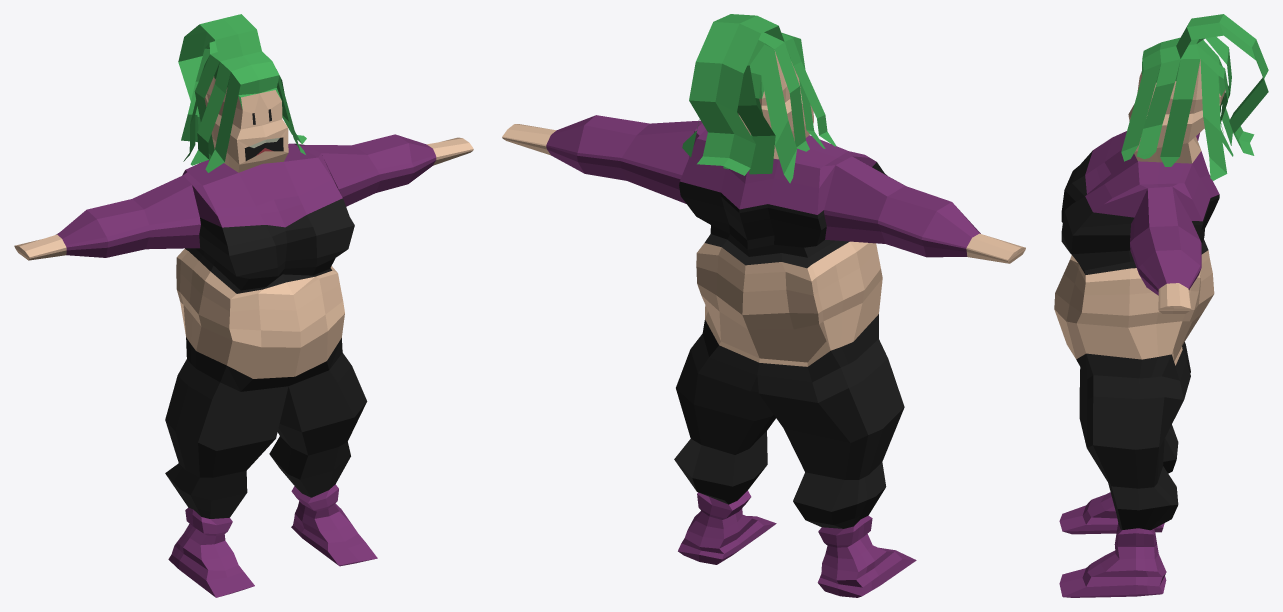
Rendered from Fille2.fbx.
3 views of the same model, side by side, from view 1: azimuth 30°, elevation 25°; view 2: azimuth 150°, elevation 25°; view 3: azimuth 270°, elevation 25° (orthographic). The views are drawn at different scales.
Parts seen in each view (by area): view 1: Cube; view 2: Cube; view 3: Cube.
Boxes of the visible parts, x1,y1,x2,y2 form: Cube: (14,14,473,597); Cube: (502,14,1025,597); Cube: (1054,14,1268,597).
Bounding box in the file's own units: 831 × 908 × 329.
